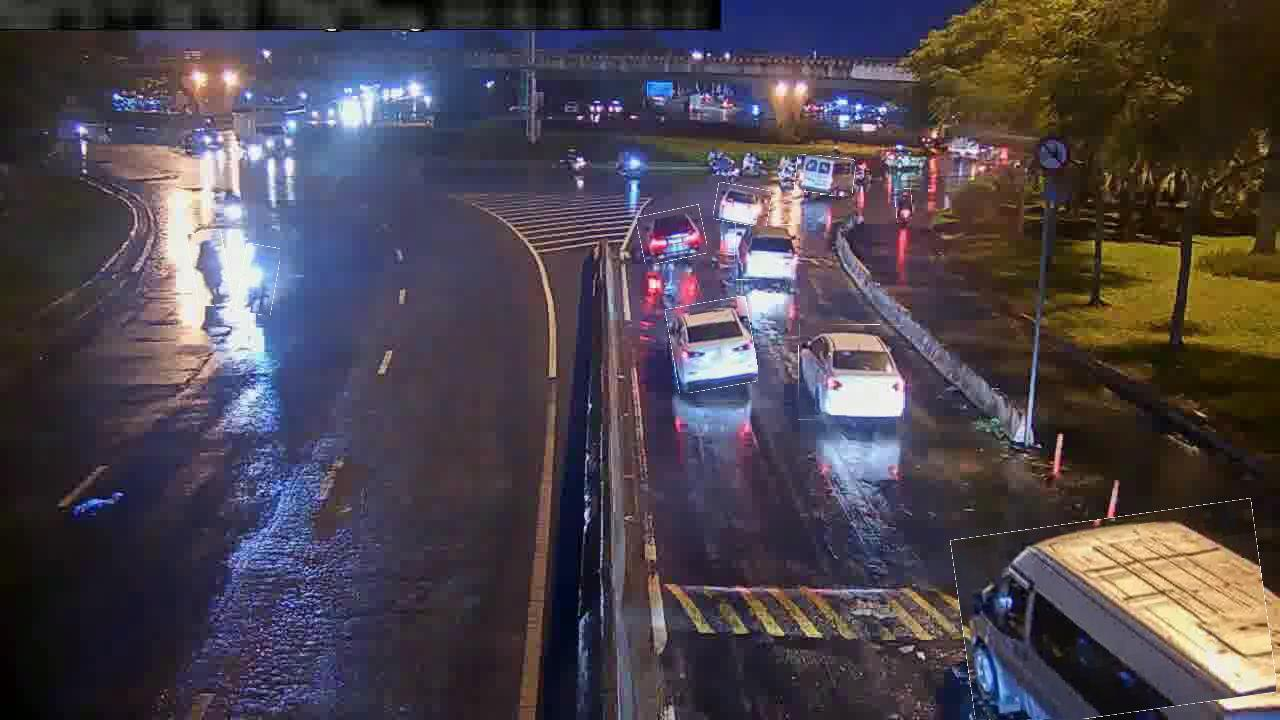14: (956, 508, 1272, 719), (795, 156, 855, 196)
container: (799, 325, 905, 421), (669, 299, 756, 391), (638, 207, 706, 262), (735, 224, 795, 281), (715, 184, 771, 225)
motorbike: (190, 230, 230, 306), (238, 245, 279, 315), (896, 189, 913, 224)
